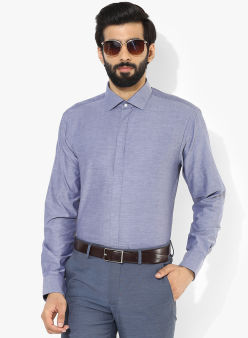F_belt: (60, 235, 173, 271)
F_shirt: (35, 84, 228, 279)
